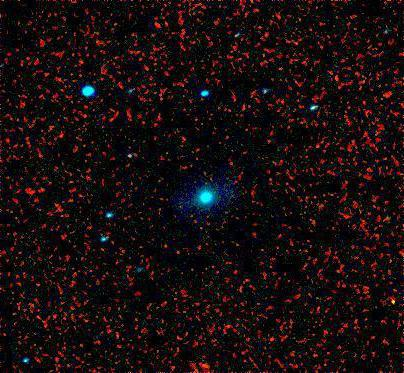star: (379, 283, 404, 313)
